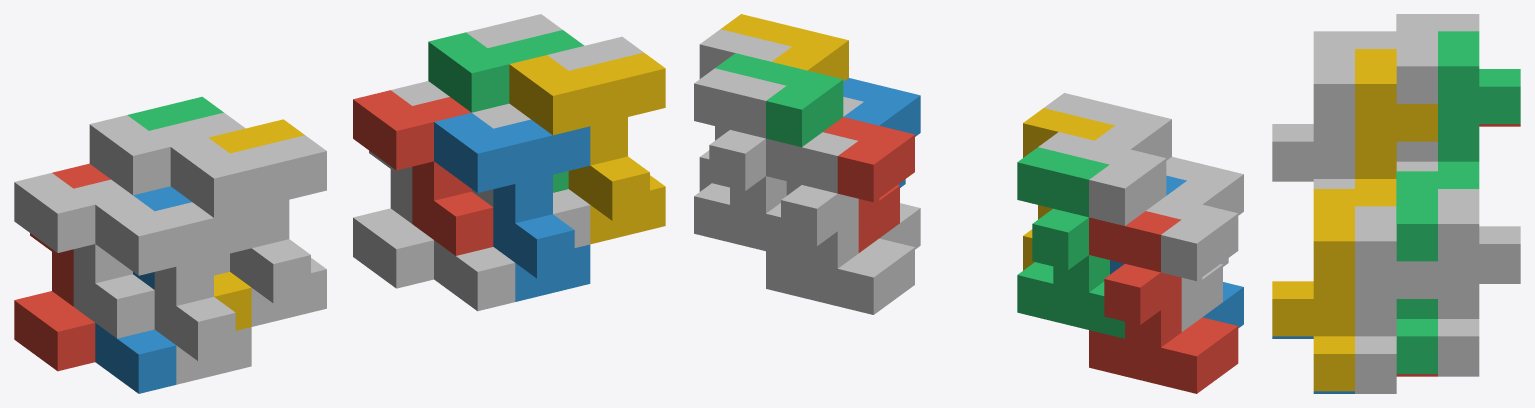
The model's file is tiling.obj.
3 views of the same model, side by side, from view 1: azimuth 30°, elevation 25°; view 2: azimuth 150°, elevation 25°; view 3: azimuth 270°, elevation 25° (orthographic). The views are drawn at different scales.
Visible parts, largest first — view 1: copy_2_domain_4, copy_2_domain_8, copy_2_domain_6, copy_2_domain_2, copy_2_domain_1, copy_2_domain_5, copy_1_domain_1, copy_1_domain_5, copy_2_domain_3, copy_2_domain_7, copy_1_domain_6, copy_1_domain_2 (+4 smaller); view 2: copy_1_domain_1, copy_1_domain_5, copy_1_domain_3, copy_1_domain_7, copy_2_domain_1, copy_2_domain_5, copy_2_domain_3, copy_2_domain_7, copy_2_domain_8, copy_2_domain_4, copy_2_domain_6, copy_2_domain_2 (+4 smaller); view 3: copy_2_domain_8, copy_1_domain_7, copy_2_domain_4, copy_1_domain_8, copy_1_domain_3, copy_2_domain_7, copy_1_domain_4, copy_2_domain_3, copy_1_domain_5, copy_2_domain_6.
Part boxes in pixels (x1,y1,x2,y2): copy_2_domain_4: (170,135,326,326); copy_2_domain_8: (509,52,665,244); copy_2_domain_6: (434,112,590,301); copy_2_domain_2: (95,195,251,384); copy_2_domain_1: (14,173,154,338); copy_2_domain_5: (353,90,493,255); copy_1_domain_1: (14,163,110,371); copy_1_domain_5: (353,81,449,288); copy_2_domain_3: (89,112,245,275); copy_2_domain_7: (428,30,584,192); copy_1_domain_6: (434,103,530,311); copy_1_domain_2: (95,186,191,393); copy_1_domain_1: (1089,211,1238,393); copy_1_domain_5: (766,132,914,314); copy_1_domain_3: (1017,147,1124,338); copy_1_domain_7: (694,68,801,259); copy_2_domain_1: (1146,196,1238,331); copy_2_domain_5: (823,117,914,252); copy_2_domain_3: (1038,132,1166,225); copy_2_domain_7: (715,53,843,147); copy_2_domain_8: (720,14,848,81); copy_2_domain_4: (1044,93,1171,160); copy_2_domain_6: (843,78,920,187); copy_2_domain_2: (1166,156,1243,266); copy_2_domain_8: (1272,189,1396,391); copy_1_domain_7: (1438,189,1520,373); copy_2_domain_4: (1272,31,1396,188); copy_1_domain_8: (1355,206,1437,391); copy_1_domain_3: (1438,31,1520,171); copy_2_domain_7: (1396,171,1479,373); copy_1_domain_4: (1355,49,1437,188); copy_2_domain_3: (1396,14,1479,171); copy_1_domain_5: (1438,281,1520,376); copy_2_domain_6: (1272,336,1354,393).
Size of the model in its own units: 15 by 5 by 6.
